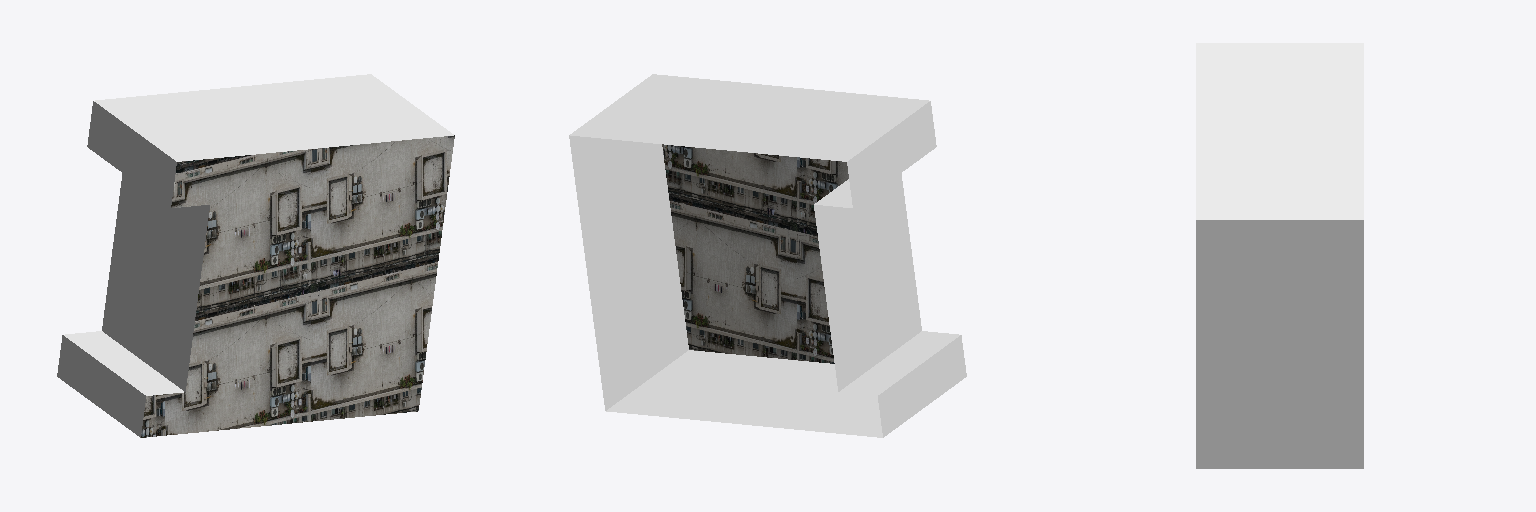
3 views of the same model, side by side, from view 1: azimuth 30°, elevation 25°; view 2: azimuth 150°, elevation 25°; view 3: azimuth 270°, elevation 25° (orthographic).
Parts seen in each view (by area): view 1: Building; view 2: Building; view 3: Building.
Part boxes in pixels (left/top/right/bottom): Building: left=57, top=74, right=454, bottom=437; Building: left=569, top=74, right=966, bottom=437; Building: left=1196, top=43, right=1363, bottom=468.
Size of the model in its own units: 45.42 by 42.61 by 21.
2 materials, 1 textured.